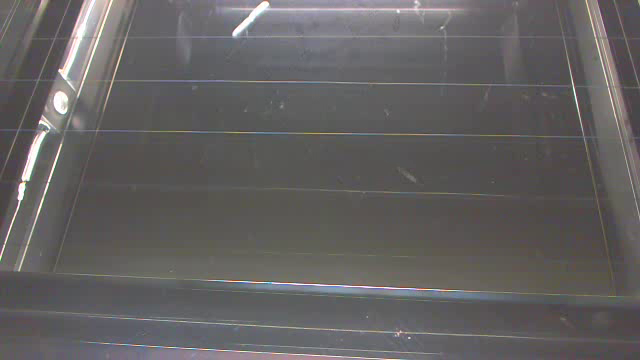alpha: (231, 1, 270, 40)
